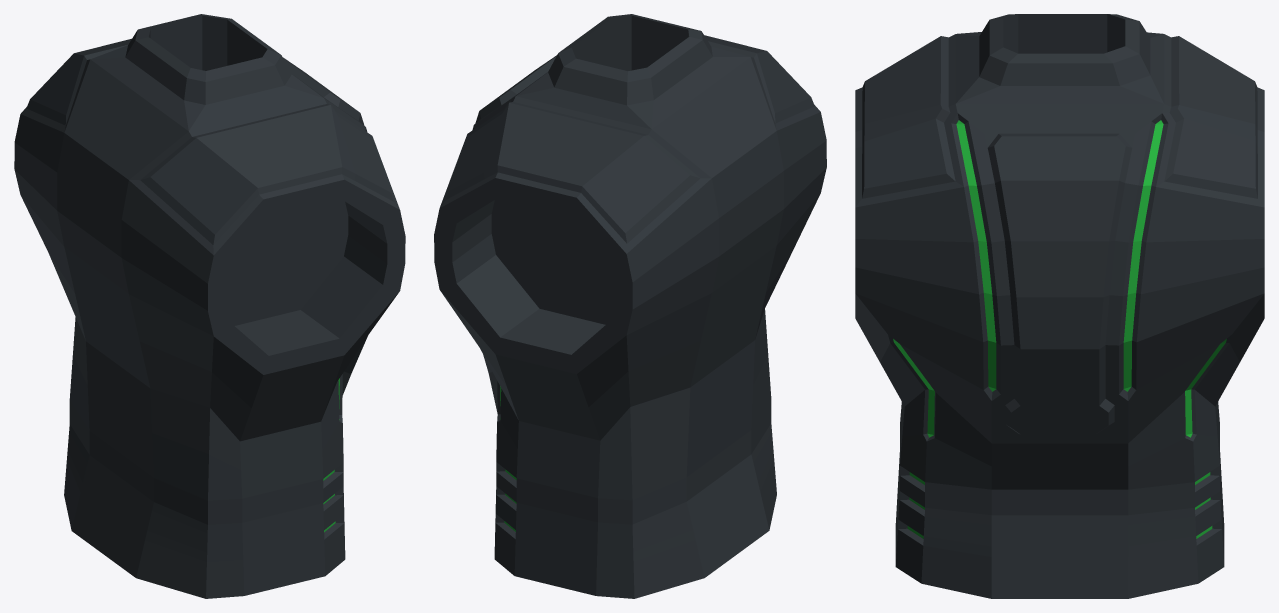
Rendered from suit.fbx.
3 renders of one model, left to right at view 1: azimuth 30°, elevation 25°; view 2: azimuth 150°, elevation 25°; view 3: azimuth 270°, elevation 25°, orthographic. The views are drawn at different scales.
Visible parts, largest first — view 1: Cube.001; view 2: Cube.001; view 3: Cube.001.
Boxes of the visible parts, box(x1,y1,x2,y2) form: Cube.001: box(14, 14, 405, 598); Cube.001: box(434, 14, 826, 598); Cube.001: box(855, 14, 1264, 598).
Bounding box in the file's own units: 104 × 179 × 129.
